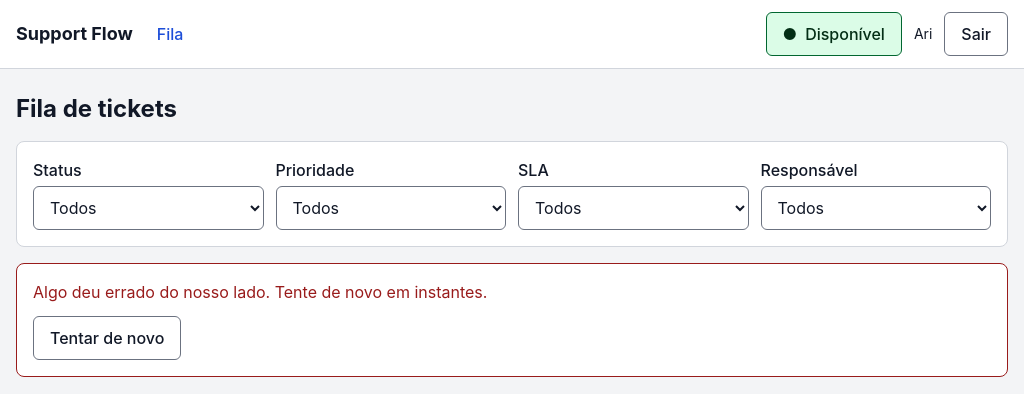
it: listas › erro da lista mostra Tentar de novo, e tentar de novo busca outra vez
This screenshot has width=1024, height=394.
Click the button "Tentar de novo".
click(107, 338)  # box top-left (33, 316), bottom-right (181, 360)
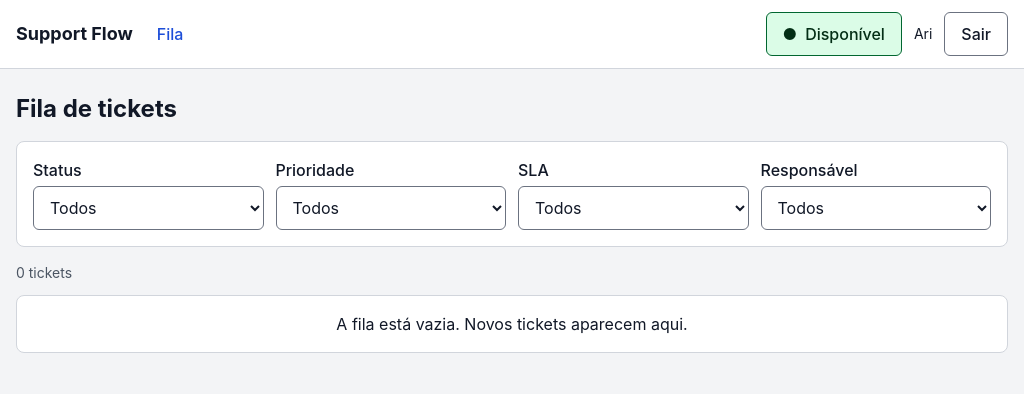
Check: the text "A fila está vazia. Novos tickets aparecem aqui." is shown, box top-left (336, 314), bottom-right (688, 334)
